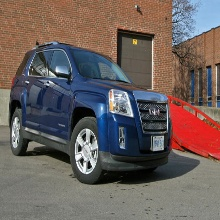no damage: (9, 43, 171, 183)
